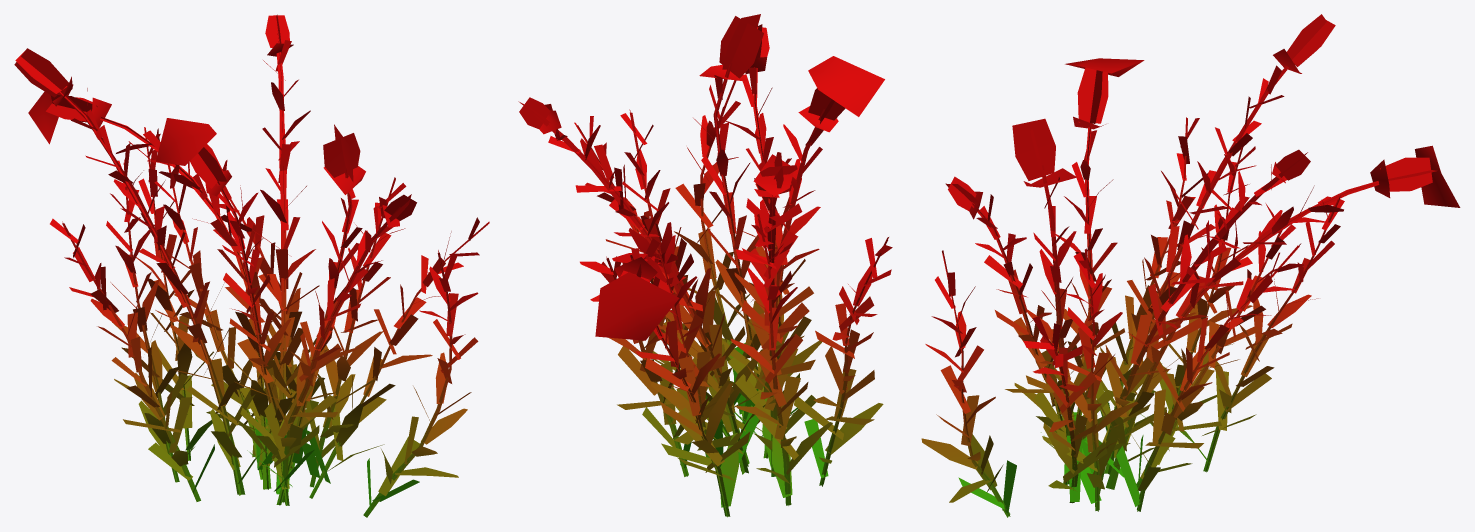
Rendered from Var4_LOD3.fbx.
3 views of the same model, side by side, from view 1: azimuth 30°, elevation 25°; view 2: azimuth 150°, elevation 25°; view 3: azimuth 270°, elevation 25° (orthographic). The views are drawn at different scales.
Parts seen in each view (by area): view 1: _zaph_Var4_LOD3; view 2: _zaph_Var4_LOD3; view 3: _zaph_Var4_LOD3.
Boxes of the visible parts, x1,y1,x2,y2 form: _zaph_Var4_LOD3: [14, 14, 489, 517]; _zaph_Var4_LOD3: [518, 14, 892, 517]; _zaph_Var4_LOD3: [921, 14, 1460, 517].
Size of the model in its own units: 20.17 by 21.31 by 25.31.
